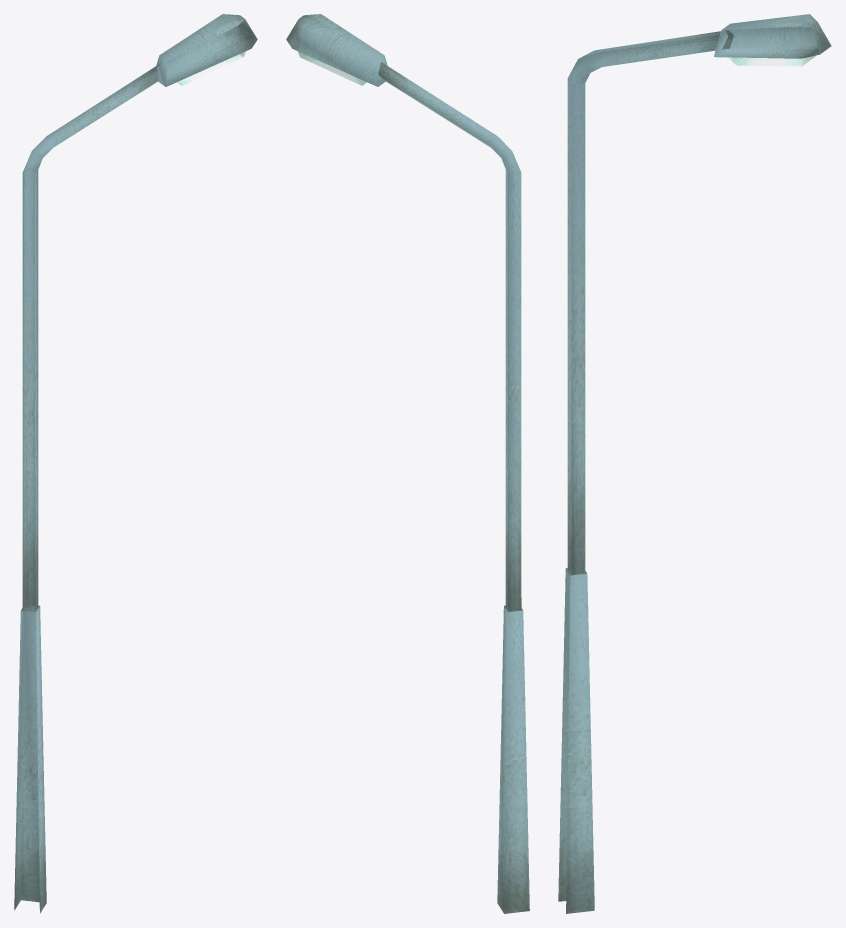
The model's file is stage-alpi-p3-140.glb.
3 views of the same model, side by side, from view 1: azimuth 30°, elevation 25°; view 2: azimuth 150°, elevation 25°; view 3: azimuth 330°, elevation 25° (orthographic). The views are drawn at different scales.
Size of the model in its own units: 4.56 by 15.31 by 0.6897.
Materials: 2 (2 with a texture image).
